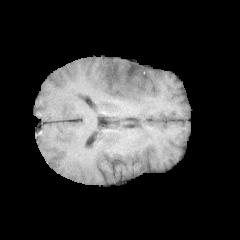glioma: (98, 60, 154, 101)
